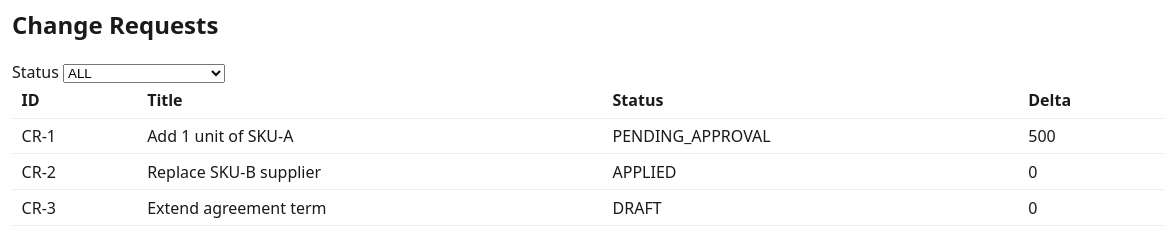
Test case: CrListComponent › shows no rows when the filter matches nothing in the org
Select "CANCELLED" in the dropdown with class "cr-list__filter" at (144,73), box [63,64,225,83]
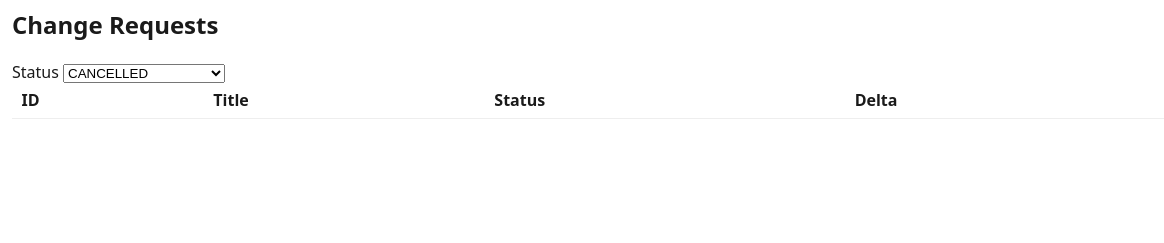
Now no rows with class "cr-list__row" are shown
